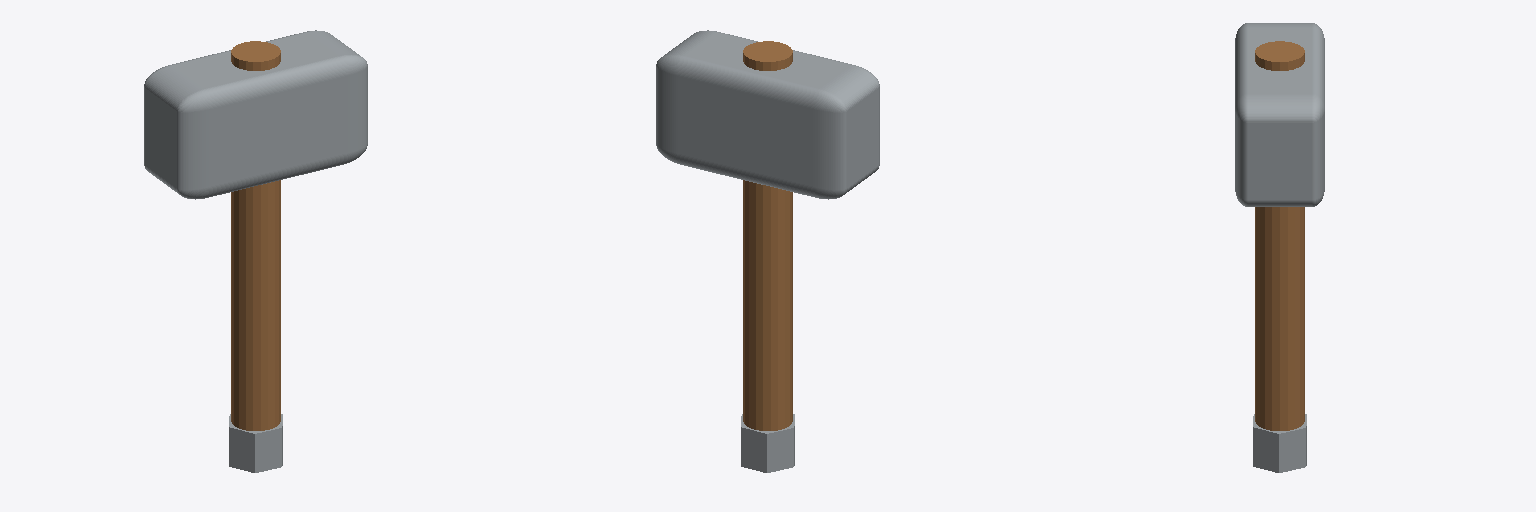
Rendered from tinker.obj.
3 renders of one model, left to right at view 1: azimuth 30°, elevation 25°; view 2: azimuth 150°, elevation 25°; view 3: azimuth 270°, elevation 25°, orthographic.
Parts seen in each view (by area): view 1: obj_0; view 2: obj_0; view 3: obj_0.
Part boxes in pixels (left/top/right/bottom): obj_0: left=144, top=30, right=367, bottom=472; obj_0: left=656, top=30, right=879, bottom=472; obj_0: left=1235, top=23, right=1324, bottom=472.
Bounding box in the file's own units: 88 × 181 × 36.